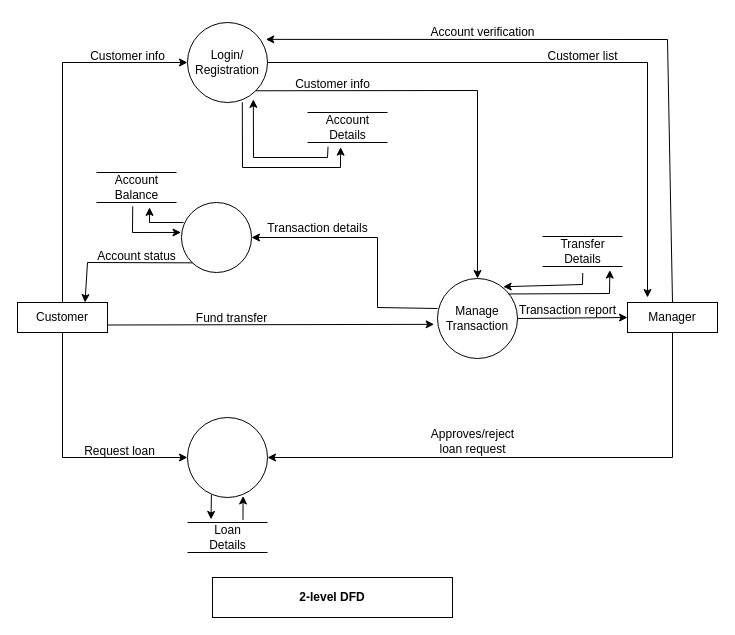
The diagram is 735 pixels wide and 635 high, and some of its shapes have lost their labels. The box of each missing label's shape, as (x1, y1, x2, y2) in pixels:
Loan management system: (186, 416, 268, 498)
Update Balance: (180, 202, 252, 272)
